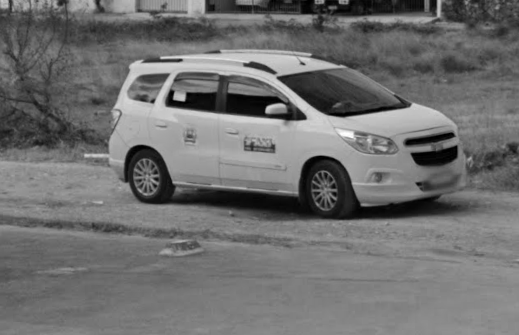car: (103, 45, 470, 218)
